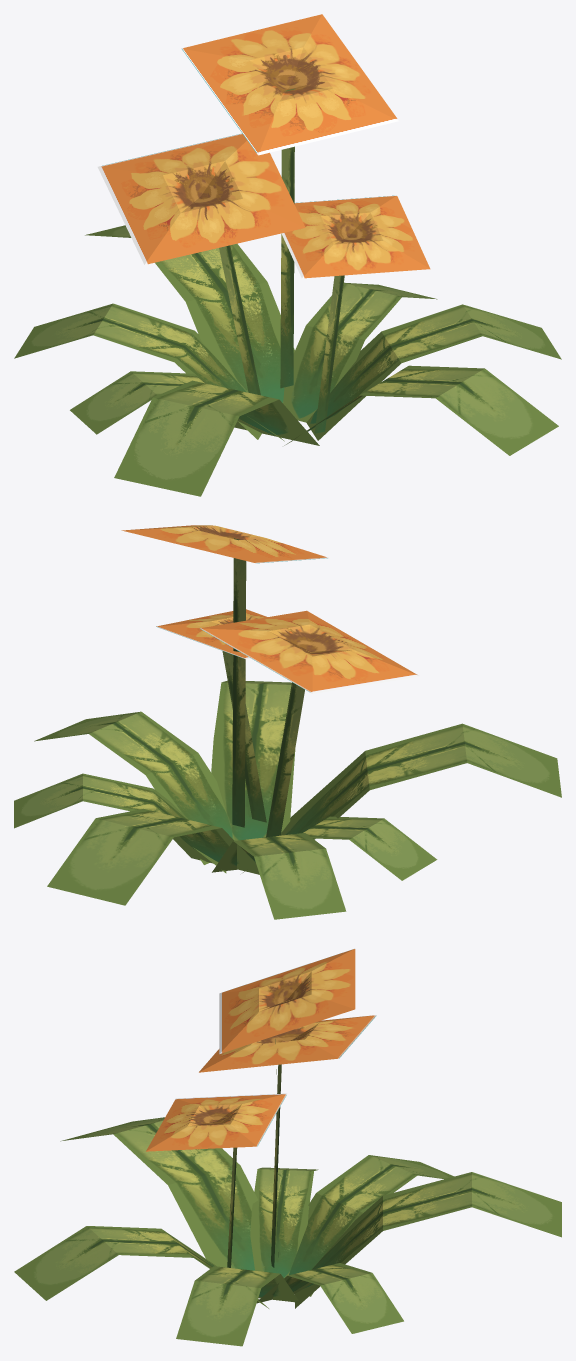
File: V_F_Flower3.FBX
3 renders of one model, top to bottom at view 1: azimuth 30°, elevation 25°; view 2: azimuth 150°, elevation 25°; view 3: azimuth 270°, elevation 25°, orthographic. The views are drawn at different scales.
Visible parts, largest first — view 1: fleur2; view 2: fleur2; view 3: fleur2.
Part boxes in pixels (<box>): fleur2: <box>14,14,561,496</box>; fleur2: <box>14,525,561,919</box>; fleur2: <box>14,948,561,1346</box>.
Size of the model in its own units: 27.87 by 19.51 by 30.51.
